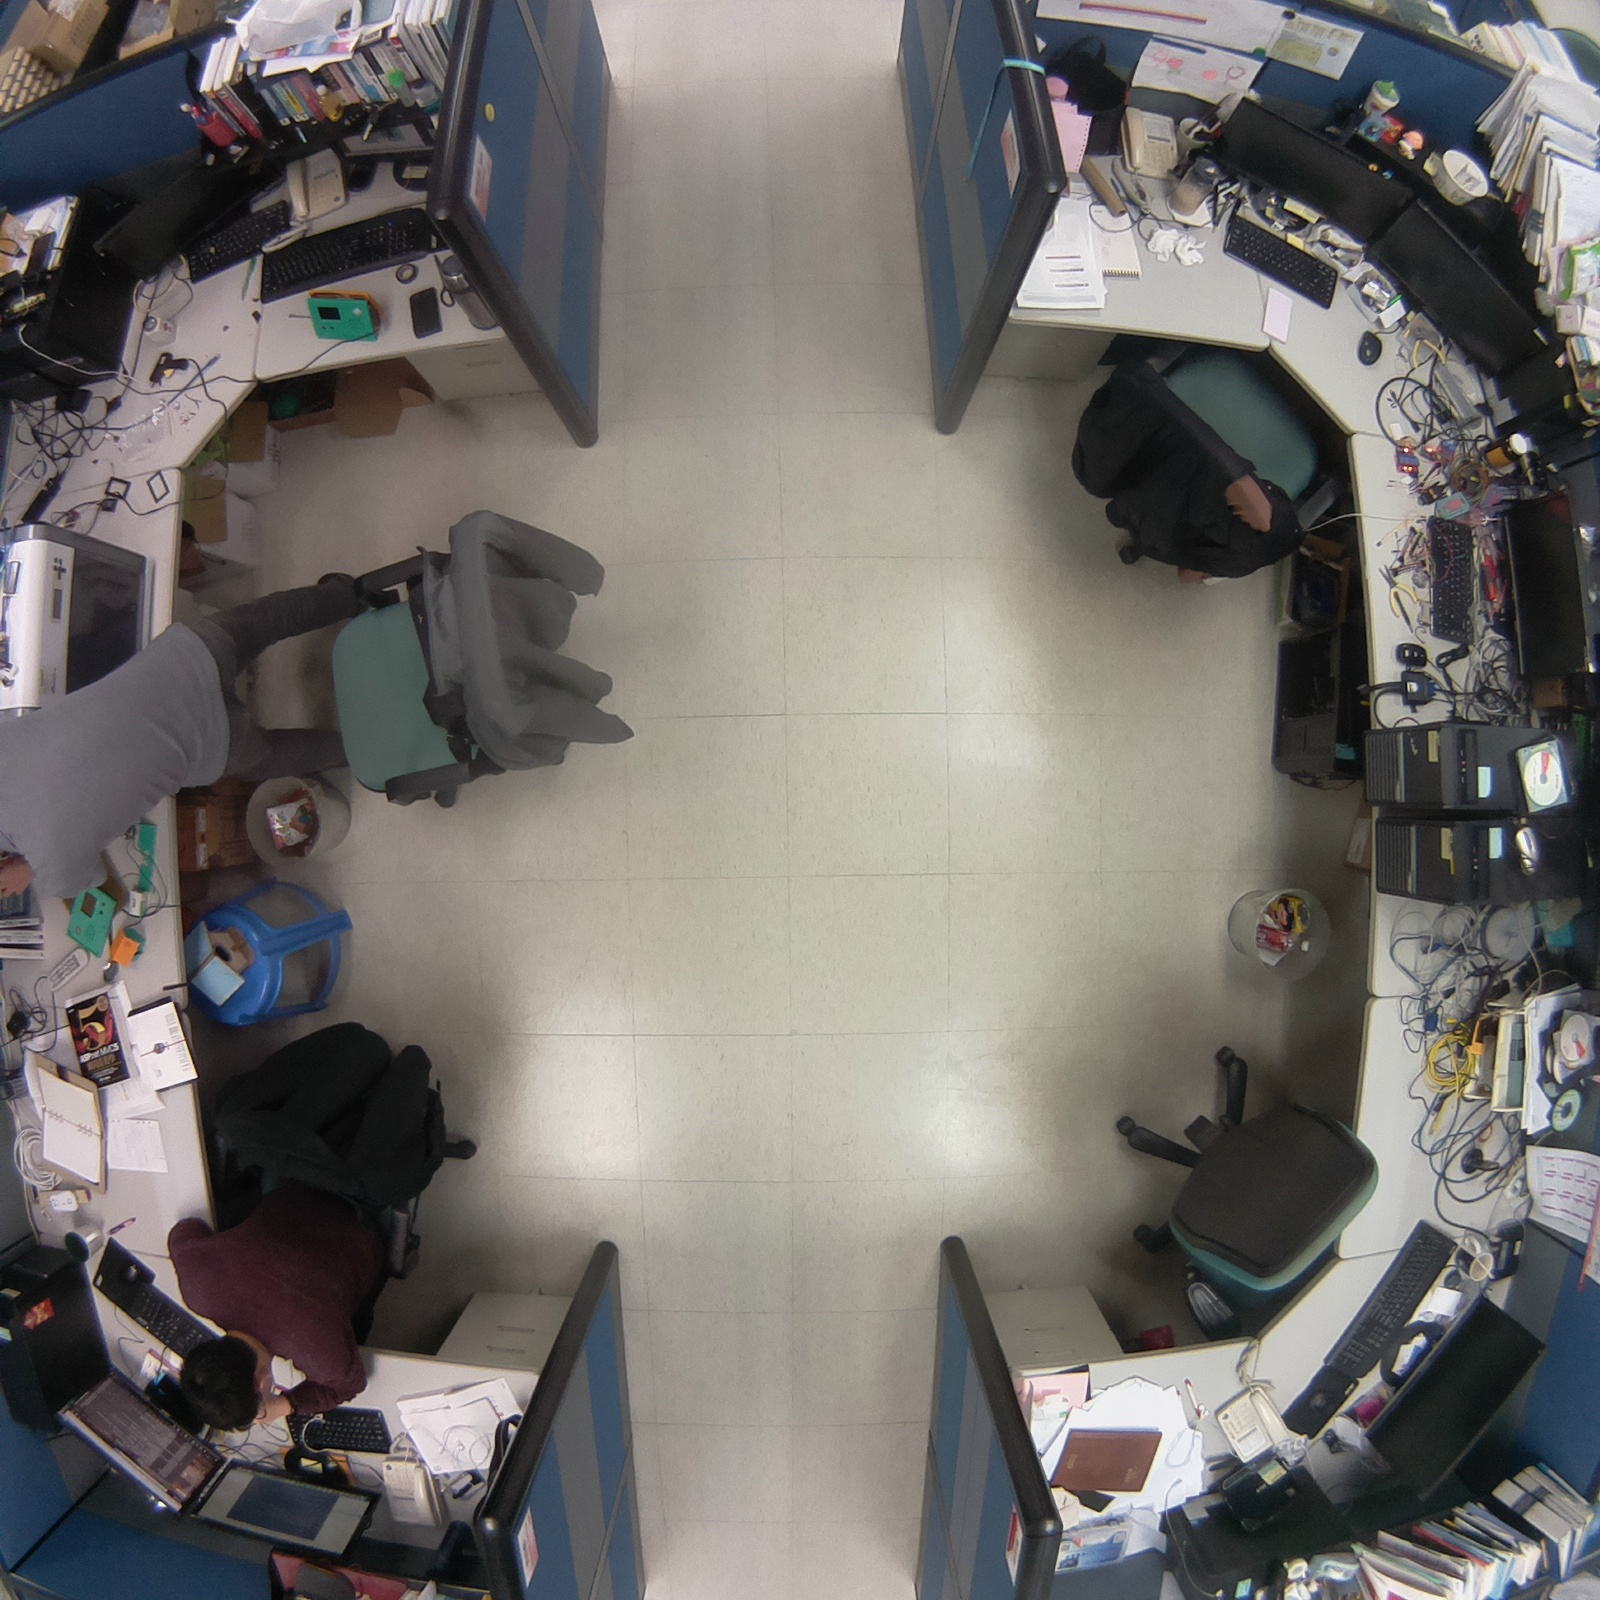chair: (1095, 1034, 1401, 1355), (1048, 309, 1361, 611)
sitting: (133, 1018, 508, 1459)
standing: (1, 551, 388, 939)
